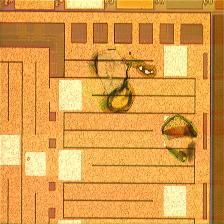PARTICLE: (90, 45, 202, 164)
